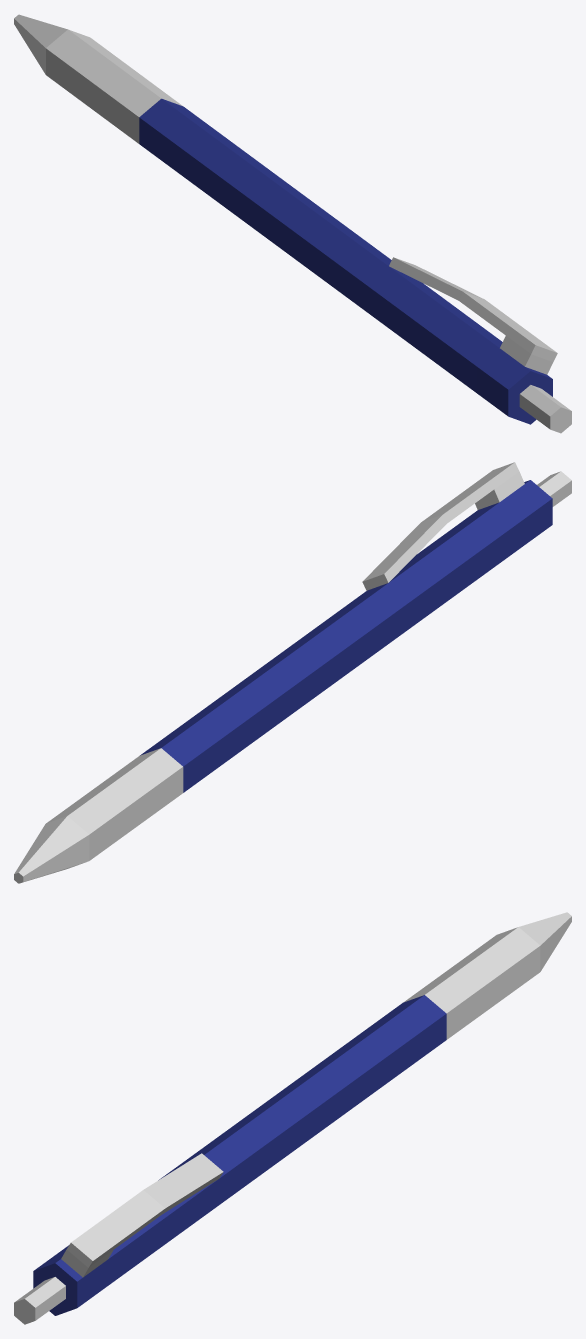
File: P_Pen_Blue.fbx
The picture shows the model from 3 angles, top to bottom: view 1: azimuth 30°, elevation 25°; view 2: azimuth 150°, elevation 25°; view 3: azimuth 330°, elevation 25°; orthographic projection.
Visible parts, largest first — view 1: P_Pen_Blue; view 2: P_Pen_Blue; view 3: P_Pen_Blue.
Boxes of the visible parts, x1,y1,x2,y2 form: P_Pen_Blue: [14, 14, 571, 433]; P_Pen_Blue: [14, 462, 571, 883]; P_Pen_Blue: [14, 912, 571, 1324].
Size of the model in its own units: 7.79 by 134 by 9.87.
